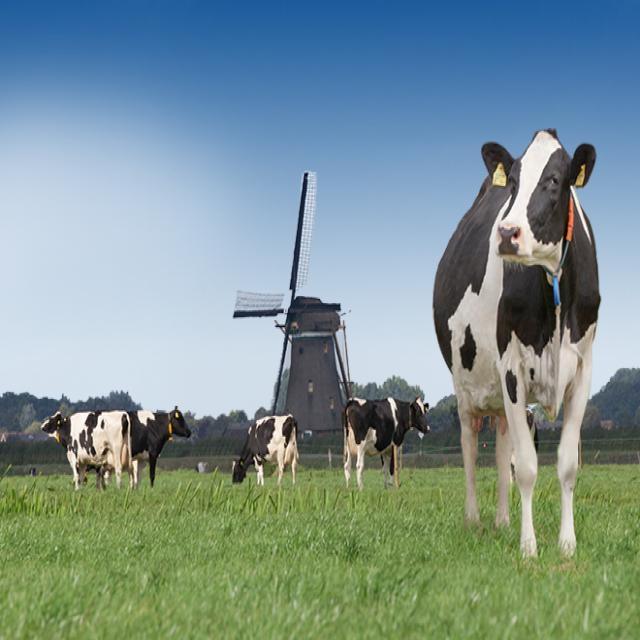cow: (393, 134, 623, 546), (327, 361, 444, 490), (32, 388, 143, 508), (217, 367, 308, 488), (112, 379, 200, 481)
